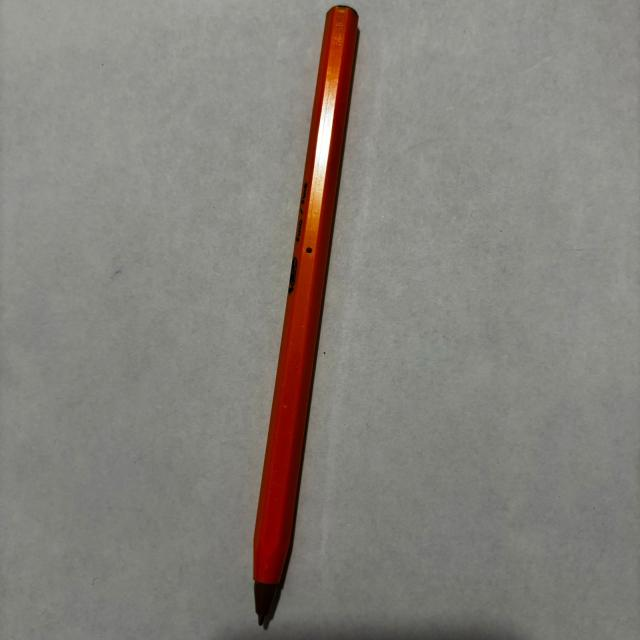pencil: (252, 6, 360, 631)
